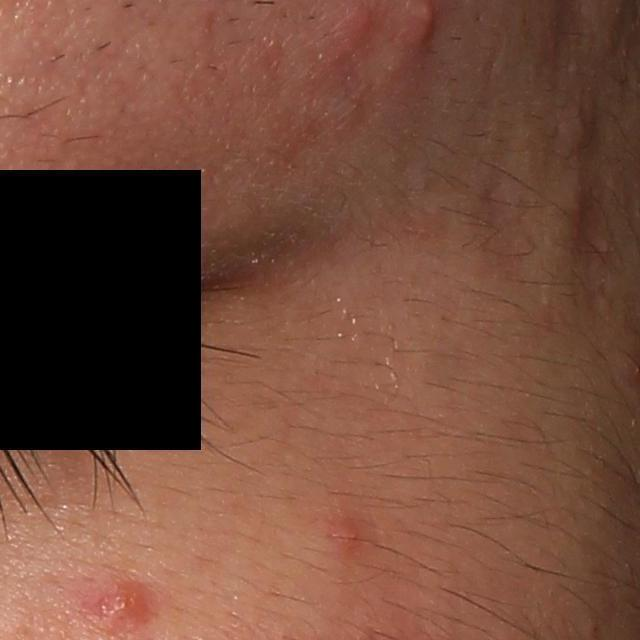papule: (84, 575, 151, 625), (323, 519, 372, 556)
